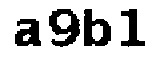1: (118, 7, 146, 50)
9: (48, 6, 80, 49)
a: (12, 18, 43, 49)
b: (82, 7, 111, 49)
